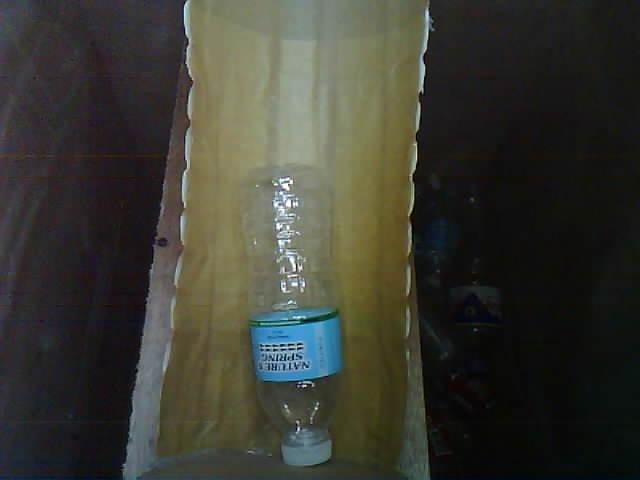small_bottle: (232, 154, 356, 480)
